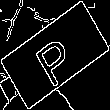P_NW: (29, 24, 81, 86)
